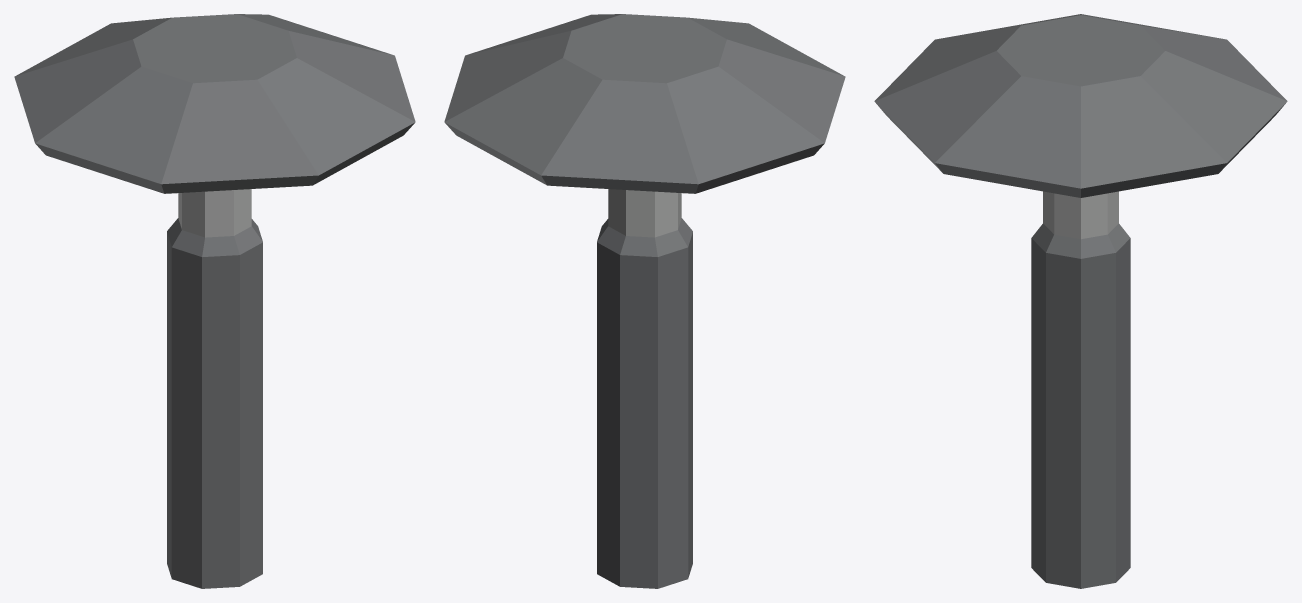
Rendered from SM_Prop_Outdoor_Light_02.obj.
3 renders of one model, left to right at view 1: azimuth 30°, elevation 25°; view 2: azimuth 150°, elevation 25°; view 3: azimuth 270°, elevation 25°, orthographic.
Parts seen in each view (by area): view 1: SM_Prop_Outdoor_Light_02_0; view 2: SM_Prop_Outdoor_Light_02_0; view 3: SM_Prop_Outdoor_Light_02_0.
Boxes of the visible parts, x1=… form: SM_Prop_Outdoor_Light_02_0: x1=14, y1=14, x2=415, y2=588; SM_Prop_Outdoor_Light_02_0: x1=444, y1=14, x2=845, y2=588; SM_Prop_Outdoor_Light_02_0: x1=874, y1=14, x2=1287, y2=588.
Size of the model in its own units: 0.1678 by 0.2317 by 0.1678.
1 material, 1 textured.
